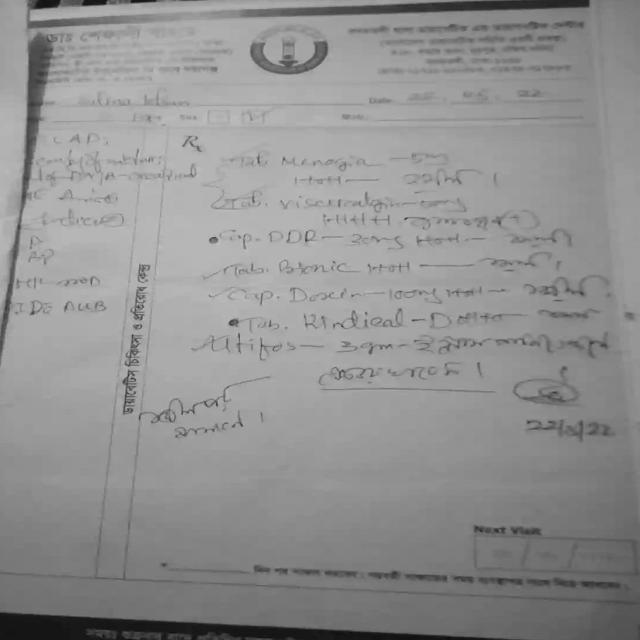B Tonic: (275, 257, 354, 276)
DDR: (257, 221, 326, 251)
Doxin: (282, 282, 368, 307)
Kindical D: (296, 308, 461, 338)
Menogia: (270, 150, 381, 174)
Utifos: (202, 331, 303, 362)
Visceralgine: (266, 188, 406, 218)
